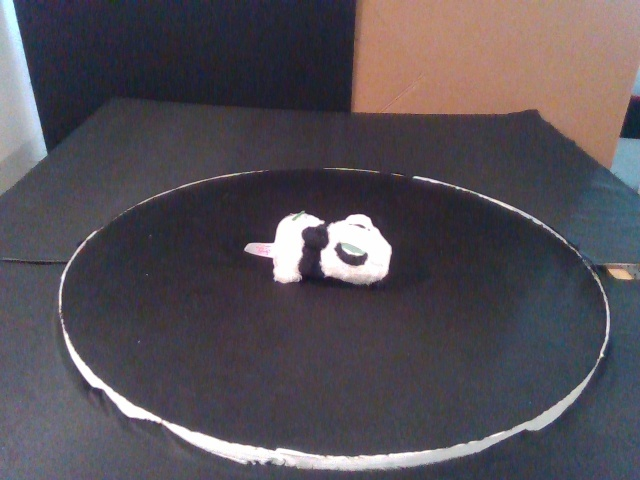teddy_bear: (244, 212, 393, 286)
